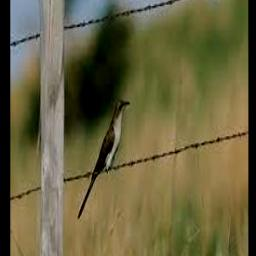Cuckoo: (78, 98, 131, 219)
